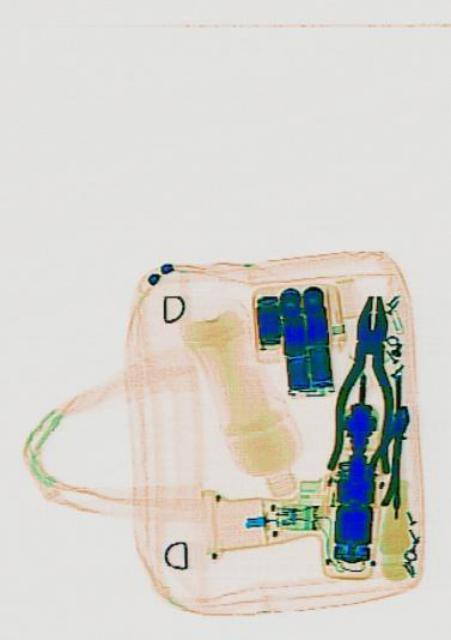Pliers: (326, 289, 403, 477), (357, 396, 419, 508)
